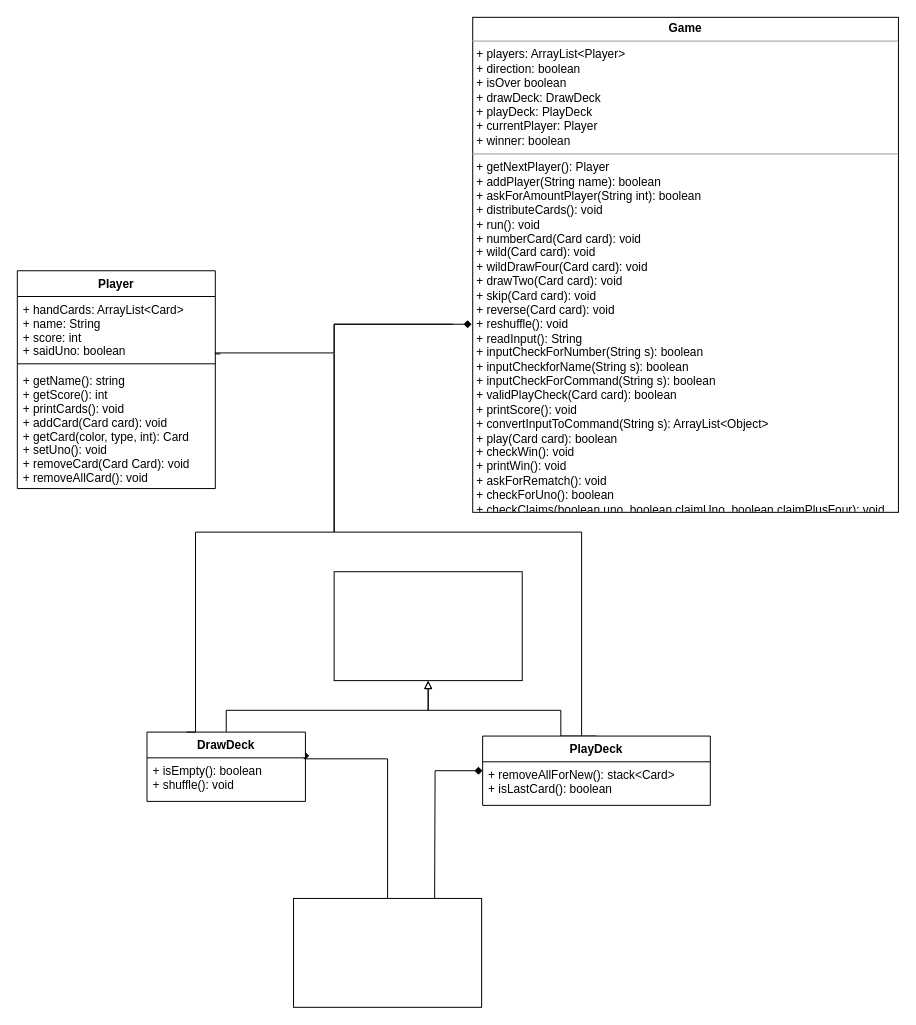
Image size: 916x1025. Some labels were removed from this diagram. Here are the shapes that lost their labels. From the top down, the centre of each, then its label:
At point (427, 626): "<<Abstract>> Deck + card: Stack<Card> + pop(): Card + push(Card card): void".
At point (387, 952): "Card + color: enum + type: enum + points: int + getName(): String".
